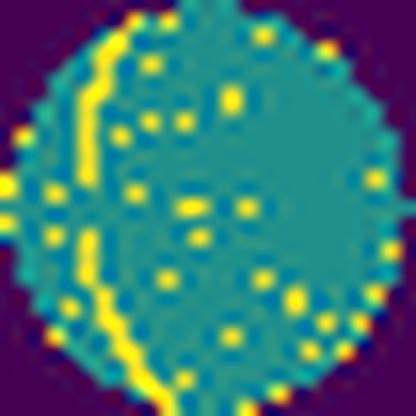Scratch: (72, 223, 186, 416), (72, 25, 134, 197)
